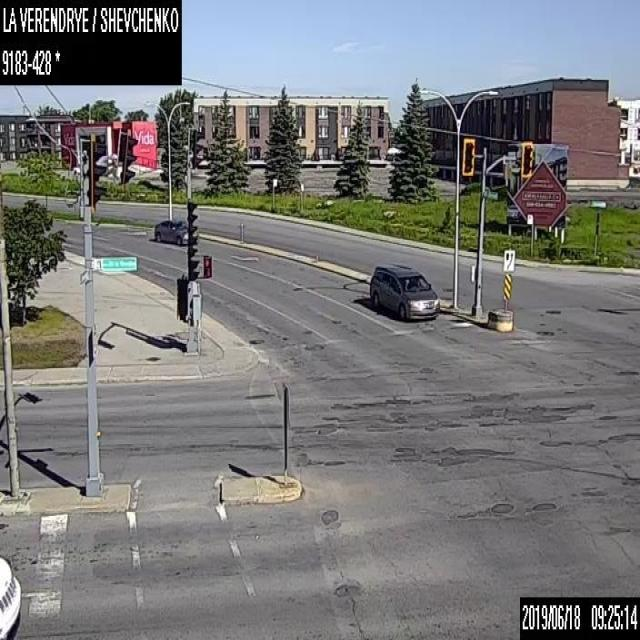vehicle: (369, 261, 439, 321), (0, 554, 22, 638), (154, 219, 186, 245)
